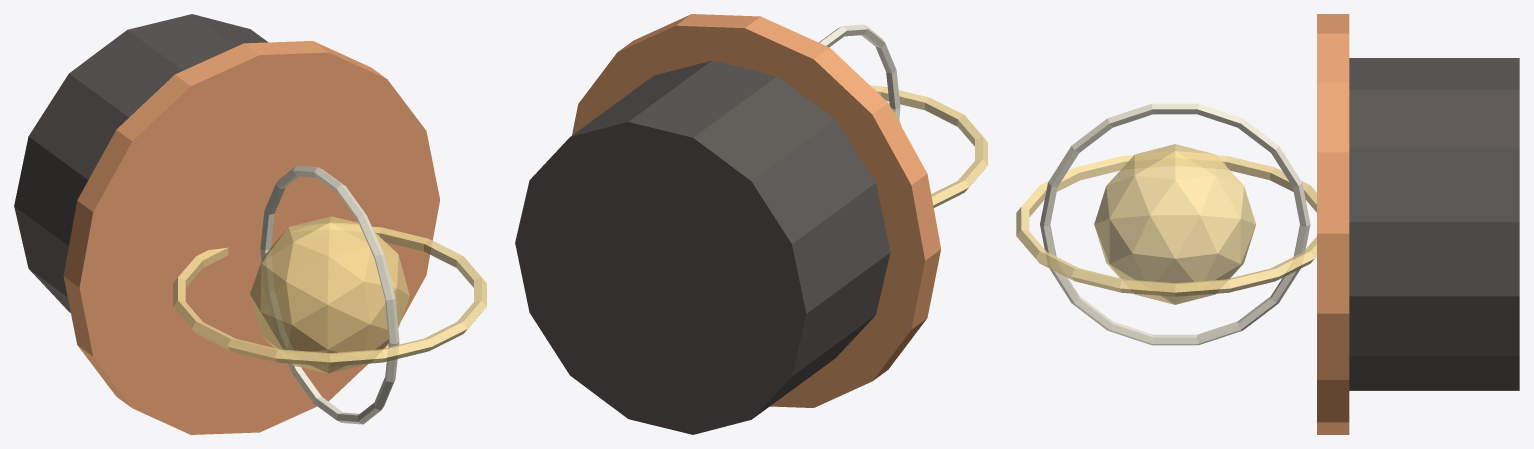
The model's file is 09_high_tier_relic_pedestal.glb.
The picture shows the model from 3 angles, left to right: view 1: azimuth 30°, elevation 25°; view 2: azimuth 150°, elevation 25°; view 3: azimuth 270°, elevation 25°; orthographic projection.
Visible parts, largest first — view 1: top_rim, relic_pedestal, floating_relic_core, relic_orbit_a, relic_orbit_b; view 2: relic_pedestal, top_rim, relic_orbit_a, relic_orbit_b; view 3: relic_pedestal, floating_relic_core, top_rim, relic_orbit_b, relic_orbit_a.
Part boxes in pixels (<box>): top_rim: <box>63,41,439,434</box>; relic_pedestal: <box>14,14,267,312</box>; floating_relic_core: <box>250,216,409,373</box>; relic_orbit_a: <box>173,226,486,366</box>; relic_orbit_b: <box>260,165,399,424</box>; relic_pedestal: <box>515,60,890,434</box>; top_rim: <box>572,14,940,407</box>; relic_orbit_a: <box>871,85,987,207</box>; relic_orbit_b: <box>819,24,900,119</box>; relic_pedestal: <box>1349,58,1519,390</box>; floating_relic_core: <box>1094,144,1255,304</box>; top_rim: <box>1317,14,1349,434</box>; relic_orbit_b: <box>1040,103,1310,345</box>; relic_orbit_a: <box>1016,155,1316,296</box>.
Size of the model in its own units: 1.04 by 1.04 by 1.24.
